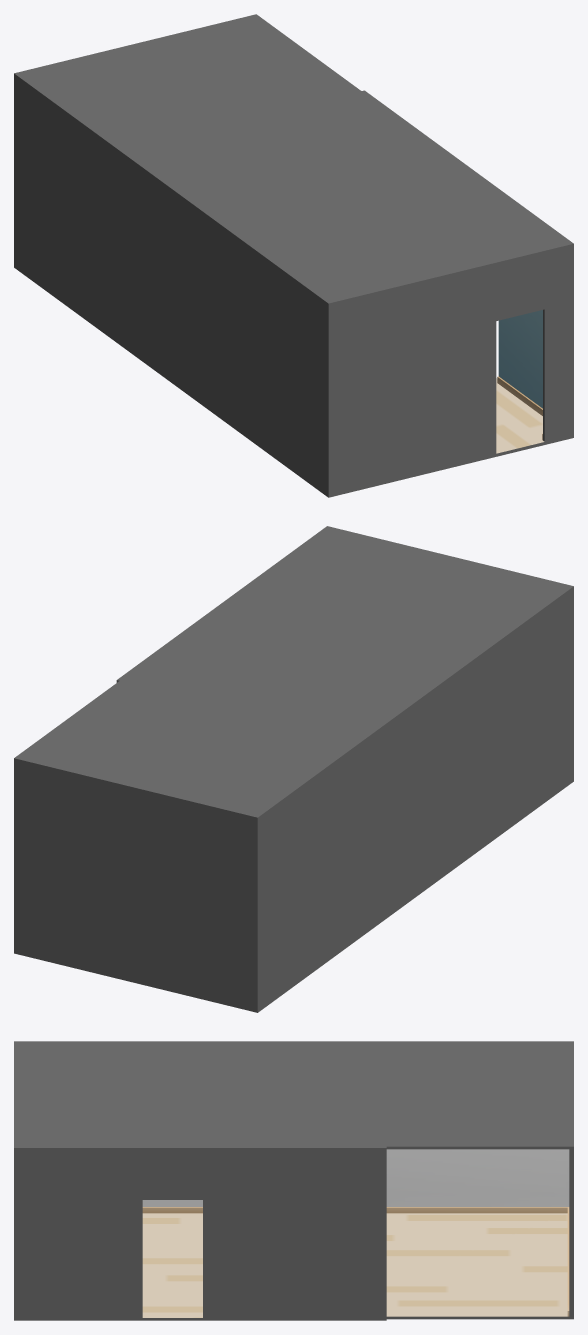
File: WaitingAreaBuilding.FBX
The picture shows the model from 3 angles, top to bottom: view 1: azimuth 30°, elevation 25°; view 2: azimuth 150°, elevation 25°; view 3: azimuth 270°, elevation 25°; orthographic projection. The views are drawn at different scales.
Parts seen in each view (by area): view 1: Building_BreakingRoom; view 2: Building_BreakingRoom; view 3: Building_BreakingRoom.
Part boxes in pixels (x1,y1,x2,y2): Building_BreakingRoom: (14, 14, 573, 497); Building_BreakingRoom: (14, 526, 573, 1012); Building_BreakingRoom: (14, 1041, 573, 1320).
Size of the model in its own units: 161 by 122 by 358.
